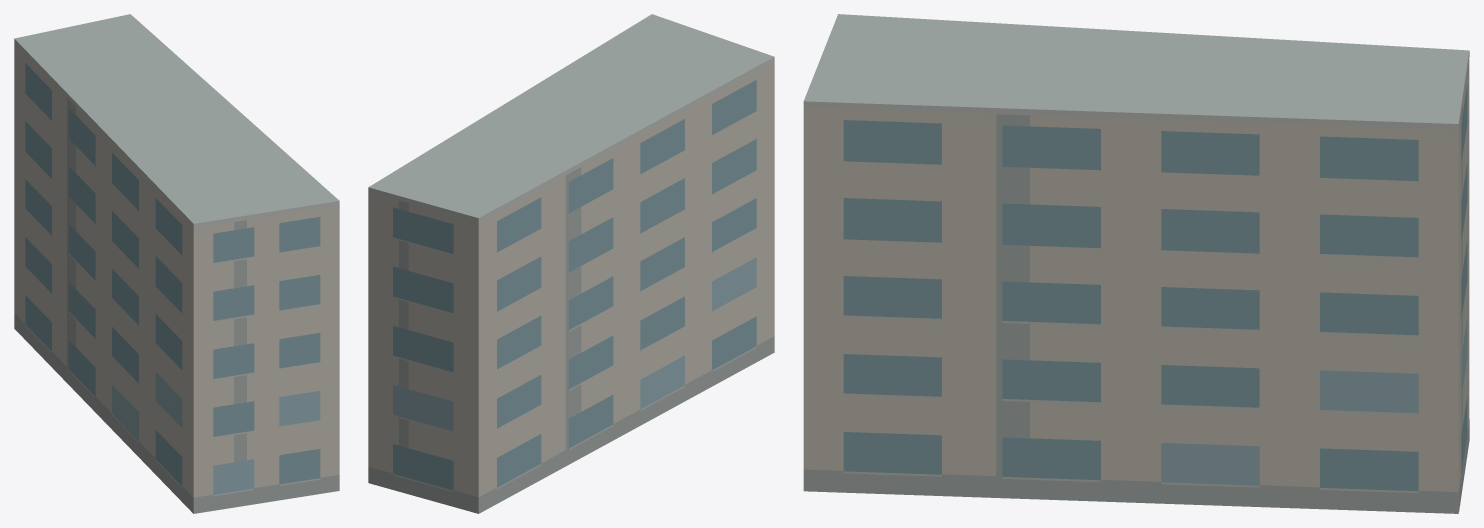
File: survey-upis-32969122.glb
The picture shows the model from 3 angles, left to right: view 1: azimuth 30°, elevation 25°; view 2: azimuth 150°, elevation 25°; view 3: azimuth 270°, elevation 25°; orthographic projection. The views are drawn at different scales.
Parts seen in each view (by area): view 1: survey-upis-32969122.tmp; view 2: survey-upis-32969122.tmp; view 3: survey-upis-32969122.tmp.
Part boxes in pixels (x1,y1,x2,y2): survey-upis-32969122.tmp: (14,14,339,513); survey-upis-32969122.tmp: (368,14,774,513); survey-upis-32969122.tmp: (803,14,1469,513).
Bounding box in the file's own units: 9.24 × 15.25 × 23.62.
